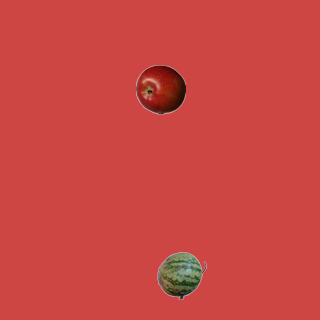Apple Braeburn: (135, 64, 185, 114)
Watermelon: (156, 250, 206, 300)
